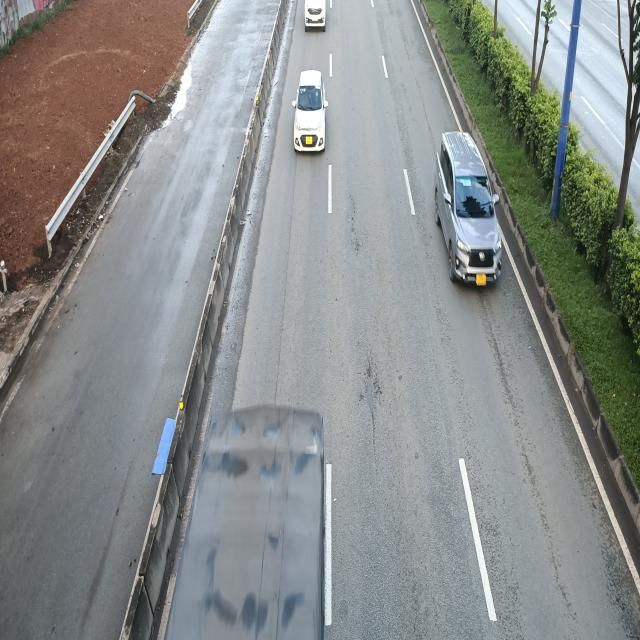car: (437, 132, 504, 288), (292, 72, 326, 156)
